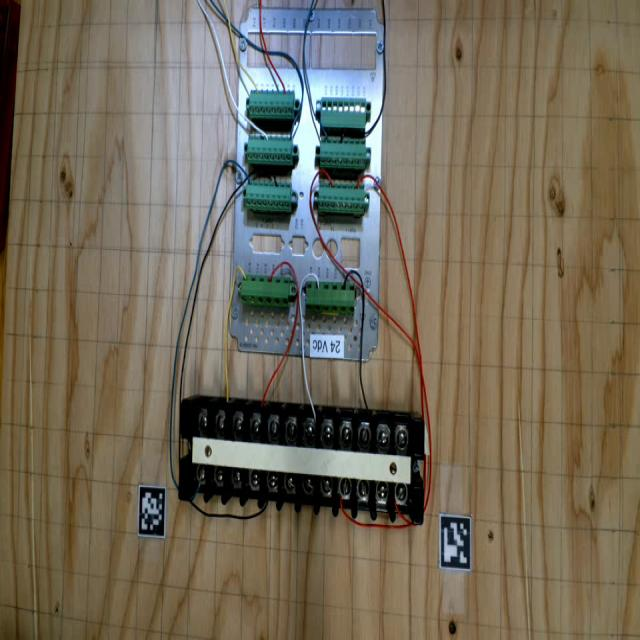Flathead_Block: (172, 394, 434, 524)
Terminal_1: (240, 274, 289, 308), (305, 281, 355, 314)
Terminal_2: (317, 182, 366, 214), (245, 180, 291, 212), (320, 139, 366, 169), (247, 136, 292, 165), (249, 90, 294, 119)
